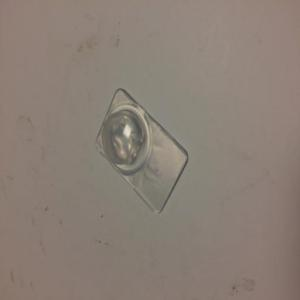Trash: (95, 88, 190, 214)
